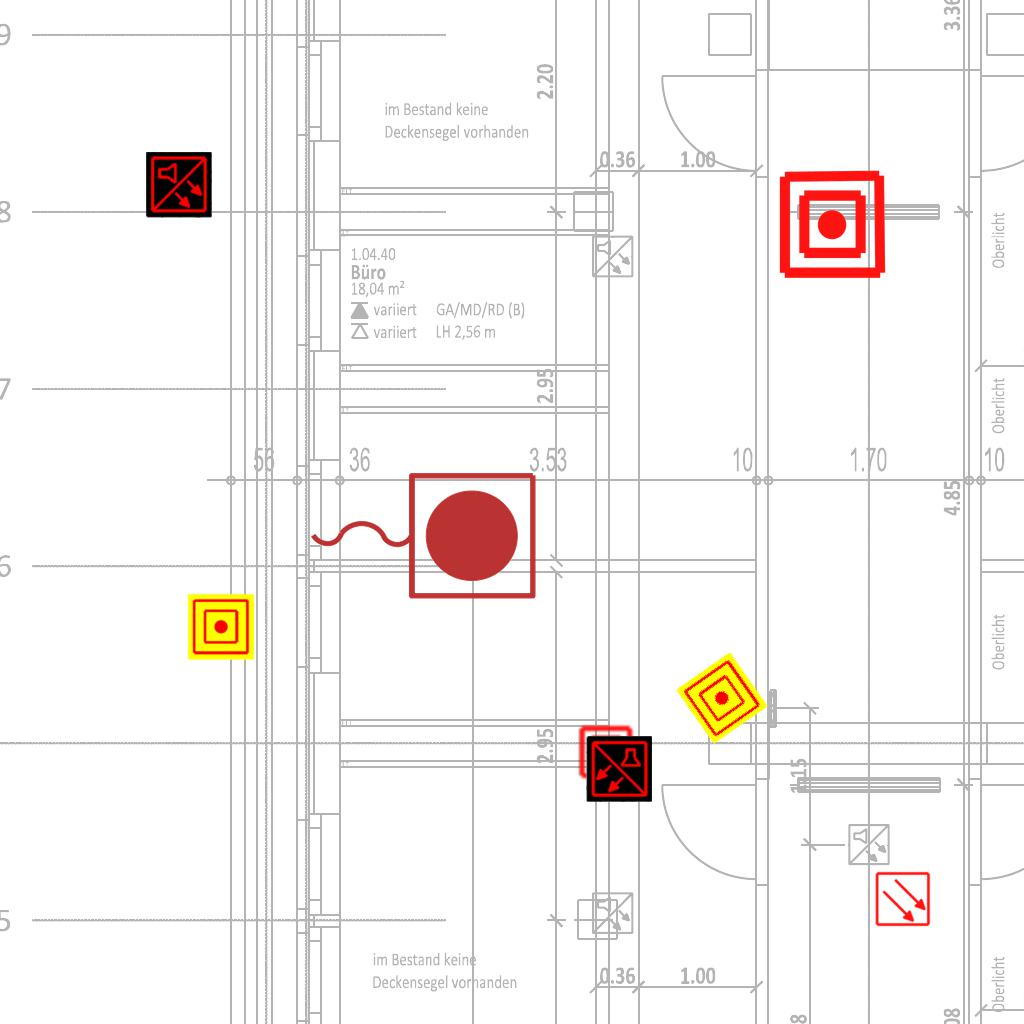NAM-Nichtautomatischer_Melder: (776, 168, 889, 281), (676, 652, 768, 744), (188, 594, 254, 660), (578, 724, 634, 780)
OKW_Multisensormelder_(Kombination_optischer_Rauch-Kahlenmonoxid_Waerme-Melder): (146, 152, 212, 218), (586, 736, 652, 802)
RMO_Rauchmelder_optischer: (875, 871, 931, 927)
Zugtaster: (300, 462, 544, 606)
